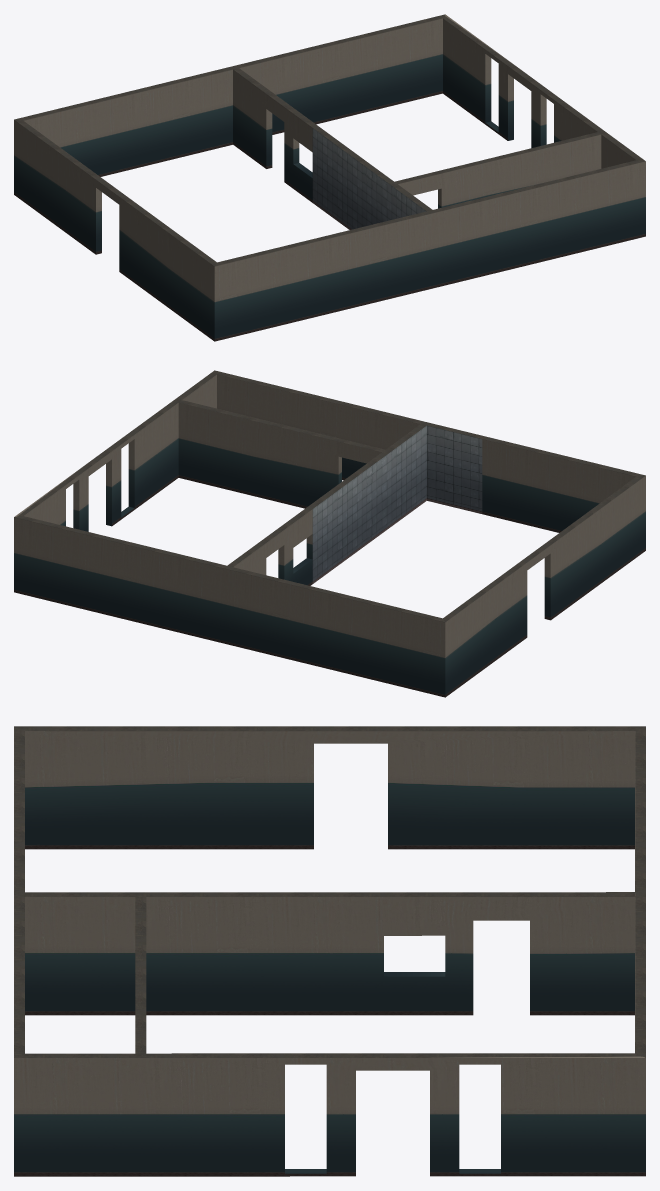
Rendered from Walls.fbx.
3 renders of one model, top to bottom at view 1: azimuth 30°, elevation 25°; view 2: azimuth 150°, elevation 25°; view 3: azimuth 270°, elevation 25°, orthographic. The views are drawn at different scales.
Visible parts, largest first — view 1: Walls; view 2: Walls; view 3: Walls.
Part boxes in pixels (left/top/right/bottom): Walls: left=14, top=14, right=645, bottom=341; Walls: left=14, top=370, right=645, bottom=697; Walls: left=14, top=726, right=645, bottom=1176.
Size of the model in its own units: 1800 by 300 by 1450.
